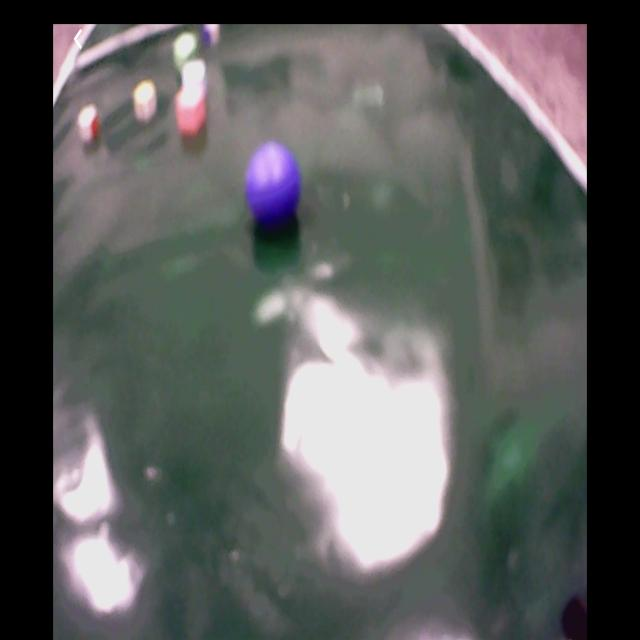ball: (247, 140, 302, 229)
